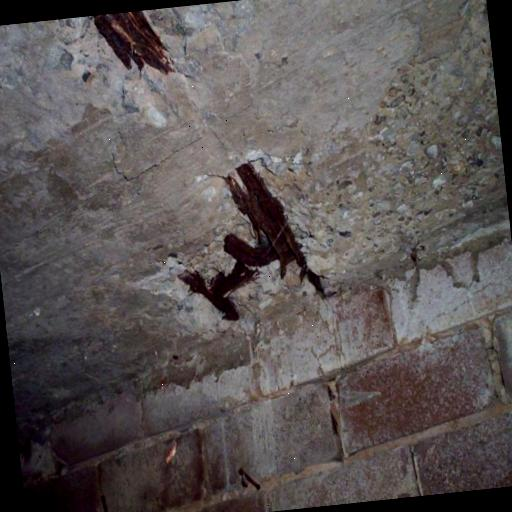spalling: (138, 153, 361, 338), (61, 7, 204, 115)
